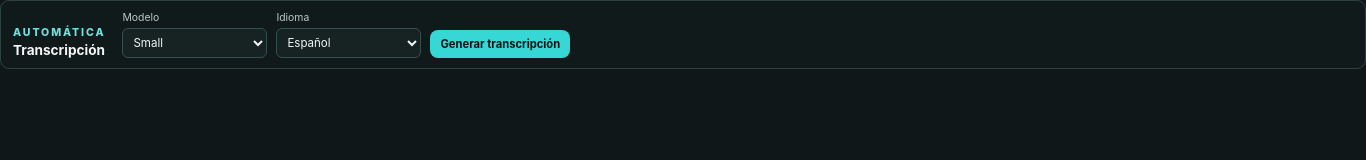
Test: transcription panel › sends the selected model and language, polls every 800 ms, then reloads the project
Later steps or results of the test are not shown.
Select "Medium" in the dropdown named "Modelo de transcripción". click: (195, 43)
box: [122,28,267,58]
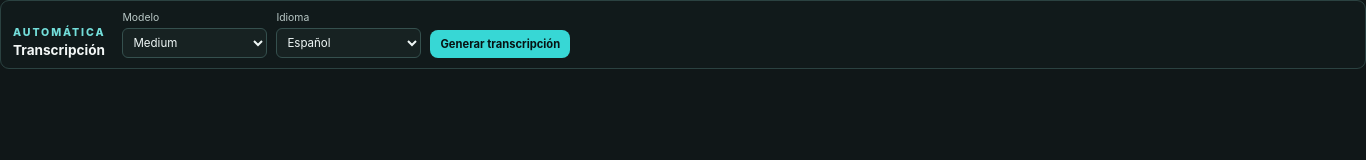
Select "Automático" in the dropdown named "Idioma de transcripción". click: (349, 43)
box: [276,28,421,58]
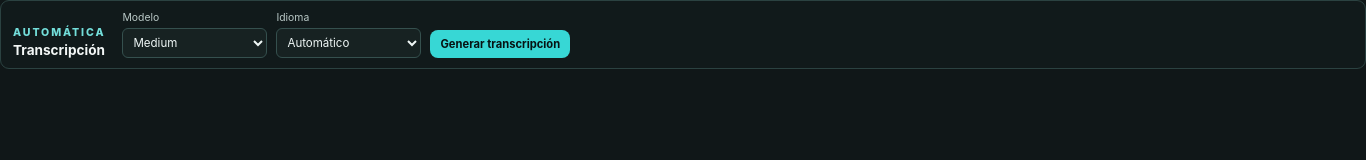
Click the button "Generar transcripción". click: click(500, 44)
box: [430,30,570,58]
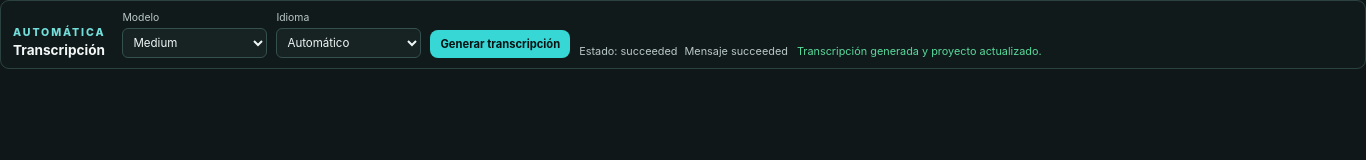
Expected: the text "Transcripción generada y proyecto actualizado." is shown, [797,44,1042,58]
